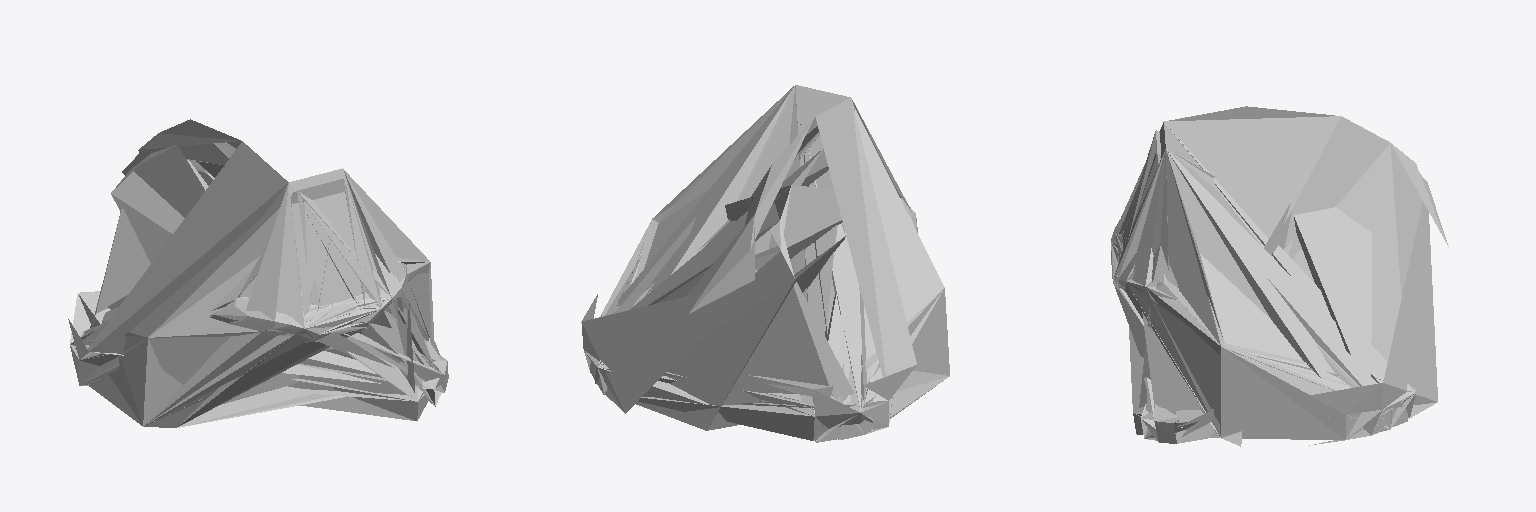
File: fox.obj
3 renders of one model, left to right at view 1: azimuth 30°, elevation 25°; view 2: azimuth 150°, elevation 25°; view 3: azimuth 270°, elevation 25°, orthographic.
Visible parts, largest first — view 1: DrawCall_0062, DrawCall_0077, DrawCall_0104, DrawCall_0096, DrawCall_0073, DrawCall_0102, DrawCall_0100, DrawCall_0108, DrawCall_0060, DrawCall_0059, DrawCall_0071, DrawCall_0094 (+2 smaller); view 2: DrawCall_0062, DrawCall_0104, DrawCall_0077, DrawCall_0068, DrawCall_0073, DrawCall_0102, DrawCall_0096, DrawCall_0108, DrawCall_0094, DrawCall_0071, DrawCall_0066, DrawCall_0070 (+3 smaller); view 3: DrawCall_0062, DrawCall_0073, DrawCall_0077, DrawCall_0104, DrawCall_0059, DrawCall_0060, DrawCall_0096, DrawCall_0071, DrawCall_0068, DrawCall_0113, DrawCall_0100, DrawCall_0092 (+3 smaller).
Part boxes in pixels (left/top/right/bottom): DrawCall_0062: left=68, top=119, right=446, bottom=427; DrawCall_0077: left=82, top=146, right=448, bottom=424; DrawCall_0104: left=90, top=180, right=417, bottom=424; DrawCall_0096: left=80, top=175, right=444, bottom=420; DrawCall_0073: left=72, top=168, right=433, bottom=427; DrawCall_0102: left=70, top=183, right=304, bottom=425; DrawCall_0100: left=84, top=170, right=381, bottom=427; DrawCall_0108: left=148, top=256, right=317, bottom=384; DrawCall_0060: left=71, top=179, right=448, bottom=406; DrawCall_0059: left=214, top=234, right=406, bottom=340; DrawCall_0071: left=102, top=169, right=405, bottom=425; DrawCall_0094: left=79, top=183, right=405, bottom=385; DrawCall_0062: left=581, top=98, right=916, bottom=442; DrawCall_0104: left=599, top=86, right=949, bottom=440; DrawCall_0077: left=599, top=148, right=901, bottom=441; DrawCall_0068: left=603, top=85, right=915, bottom=425; DrawCall_0073: left=598, top=86, right=891, bottom=440; DrawCall_0102: left=590, top=100, right=949, bottom=440; DrawCall_0096: left=808, top=149, right=877, bottom=412; DrawCall_0108: left=596, top=87, right=813, bottom=406; DrawCall_0094: left=661, top=90, right=790, bottom=220; DrawCall_0071: left=598, top=219, right=872, bottom=439; DrawCall_0066: left=632, top=86, right=874, bottom=415; DrawCall_0070: left=597, top=367, right=862, bottom=413; DrawCall_0062: left=1114, top=106, right=1448, bottom=445; DrawCall_0073: left=1114, top=123, right=1414, bottom=433; DrawCall_0077: left=1129, top=140, right=1371, bottom=446; DrawCall_0104: left=1113, top=130, right=1377, bottom=386; DrawCall_0059: left=1112, top=201, right=1345, bottom=439; DrawCall_0060: left=1111, top=142, right=1415, bottom=443; DrawCall_0096: left=1118, top=152, right=1415, bottom=441; DrawCall_0071: left=1111, top=149, right=1415, bottom=439; DrawCall_0068: left=1112, top=122, right=1260, bottom=288; DrawCall_0113: left=1133, top=245, right=1383, bottom=432; DrawCall_0100: left=1111, top=154, right=1389, bottom=438; DrawCall_0092: left=1111, top=241, right=1220, bottom=353.
Bounding box in the file's own units: 4.65 × 3.79 × 4.31.